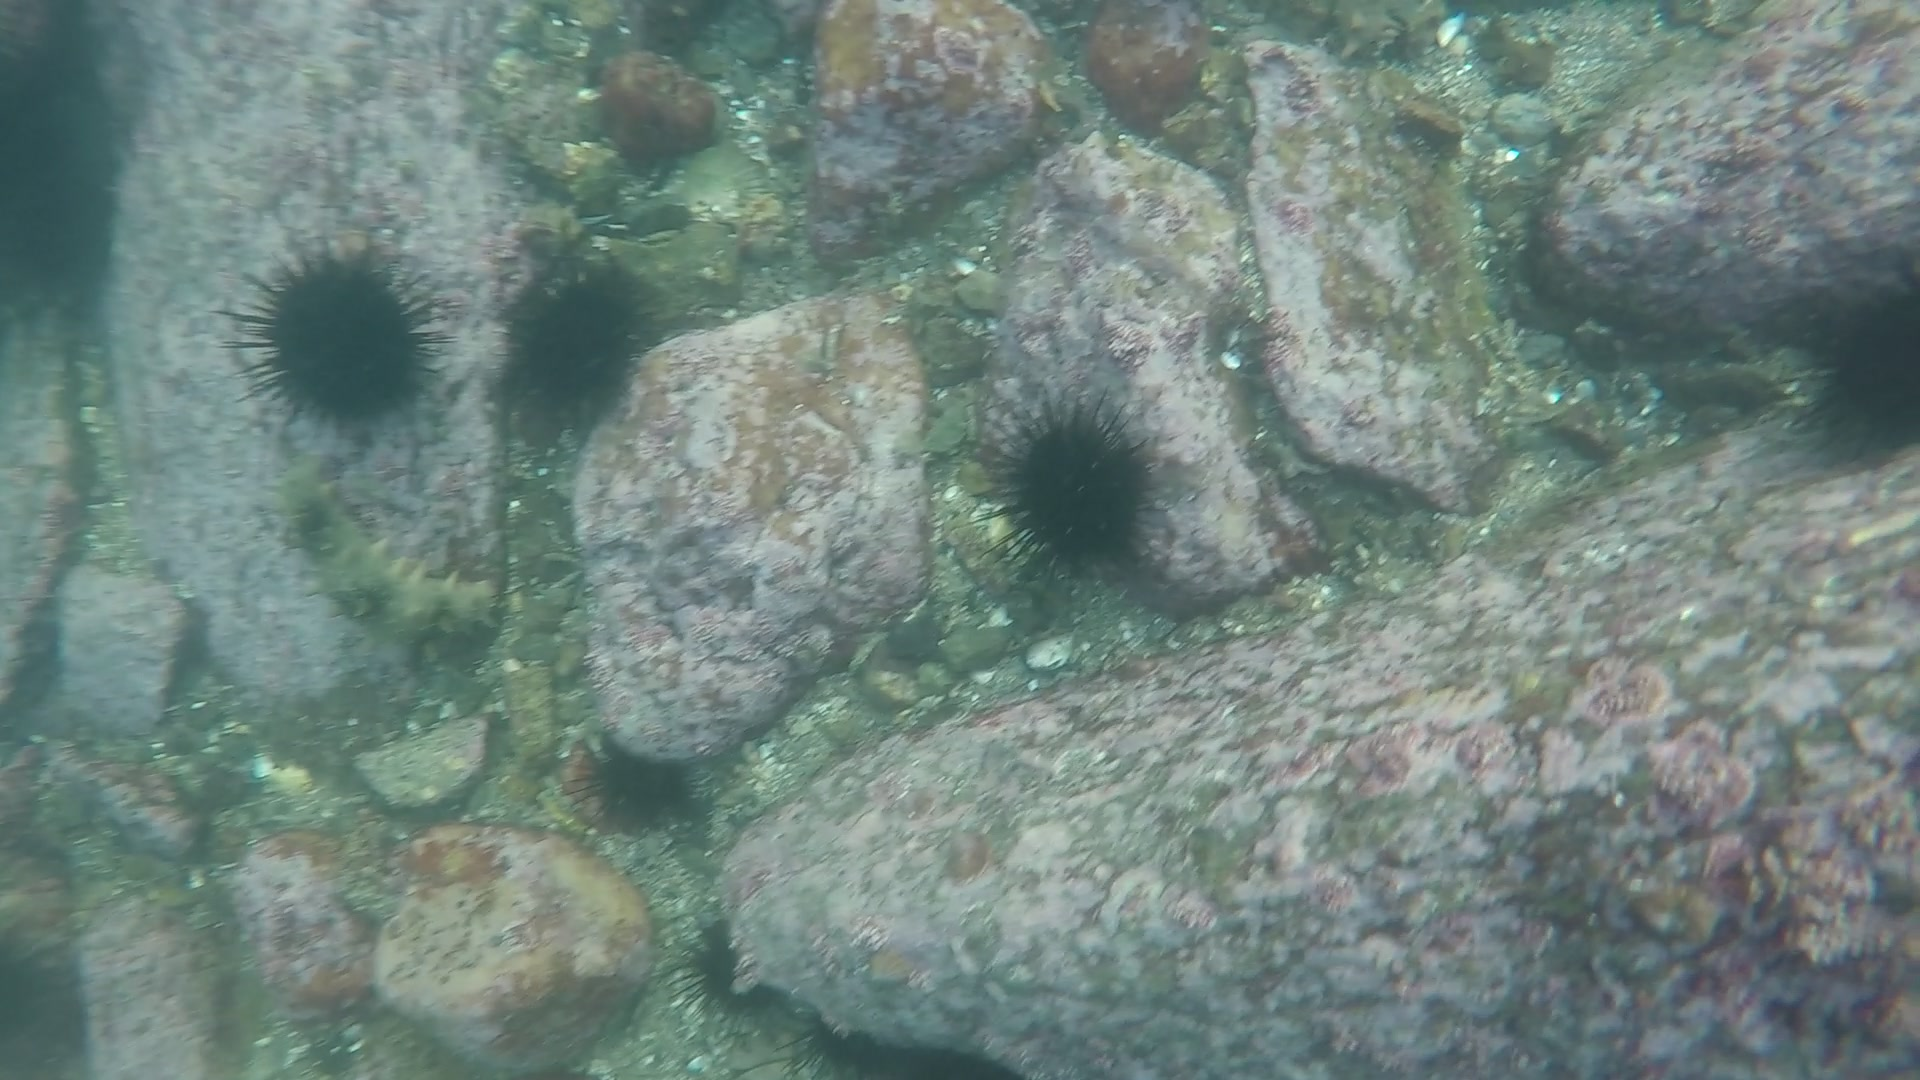echinus: (216, 249, 447, 425), (956, 407, 1162, 568), (491, 257, 653, 413), (1793, 258, 1920, 447), (574, 725, 712, 833), (808, 1005, 1007, 1080), (673, 915, 789, 1022)
